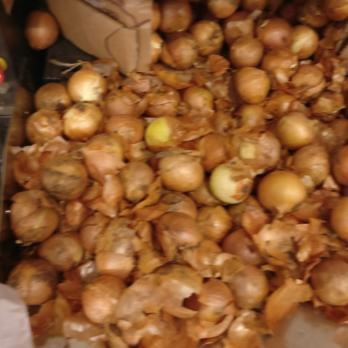Onion: (162, 0, 348, 348), (26, 61, 170, 348), (22, 10, 61, 48)
